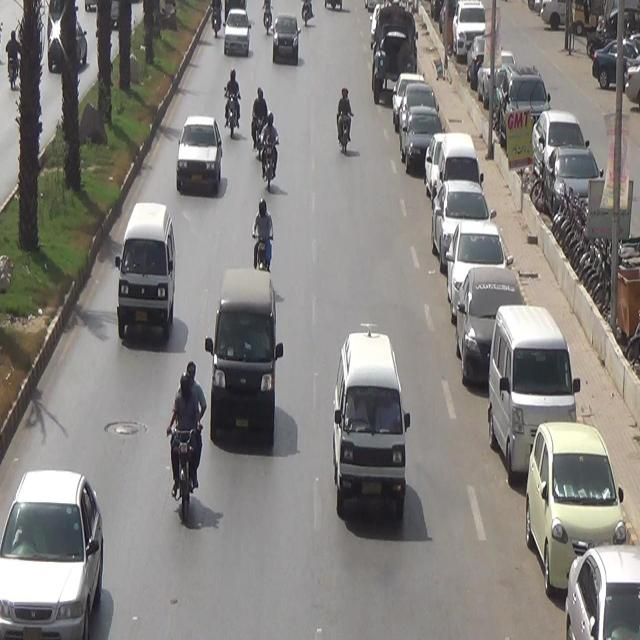car: (0, 456, 108, 639), (520, 419, 628, 589), (326, 330, 419, 523), (483, 297, 579, 480), (212, 261, 280, 457), (112, 183, 178, 347), (452, 259, 521, 387), (446, 222, 506, 314), (427, 179, 490, 257), (175, 106, 222, 206), (418, 122, 480, 197), (396, 99, 447, 167), (270, 11, 304, 60), (224, 6, 248, 59)
motorbike: (162, 349, 206, 534), (244, 190, 288, 284), (330, 79, 357, 163), (260, 101, 284, 190), (223, 63, 243, 141), (250, 82, 268, 147), (206, 0, 222, 41)
truck: (366, 0, 428, 106)
